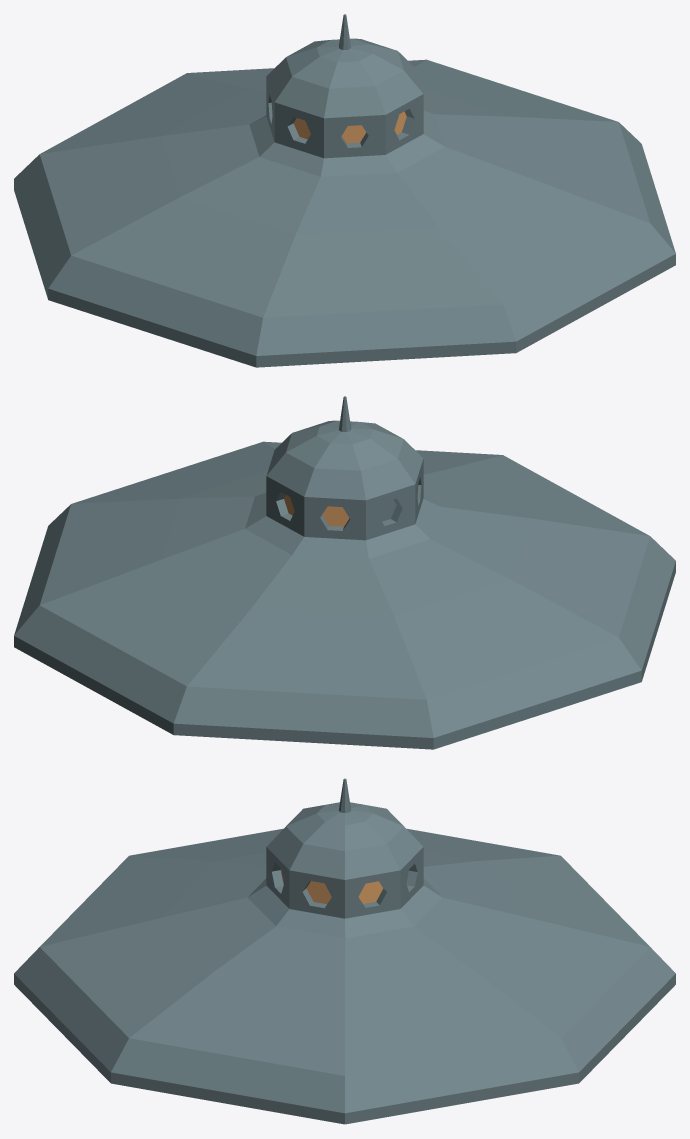
The model's file is UFO.fbx.
3 views of the same model, one above another, from view 1: azimuth 30°, elevation 25°; view 2: azimuth 150°, elevation 25°; view 3: azimuth 270°, elevation 25° (orthographic). The views are drawn at different scales.
Parts seen in each view (by area): view 1: UFO; view 2: UFO; view 3: UFO.
Boxes of the visible parts, x1,y1,x2,y2 form: UFO: (14,14,675,367); UFO: (14,396,675,749); UFO: (14,778,675,1124).
Size of the model in its own units: 2500 by 1033 by 2500.
